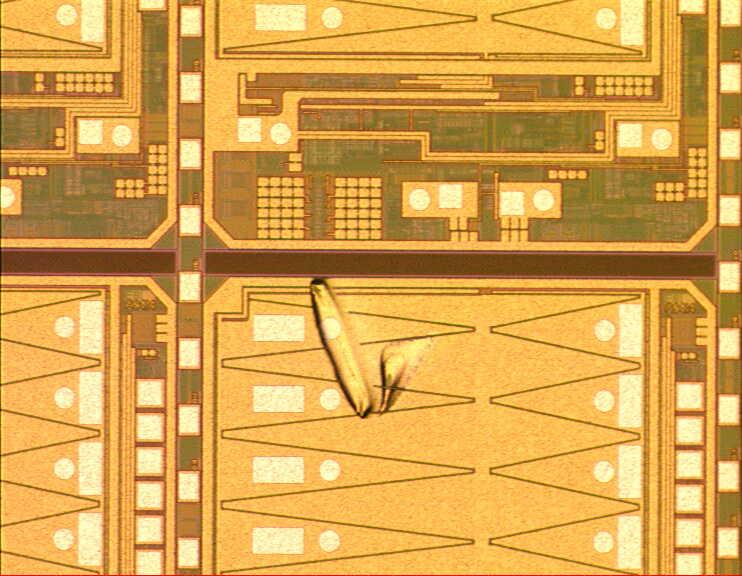BLOCK ETCH: (293, 270, 449, 433)
